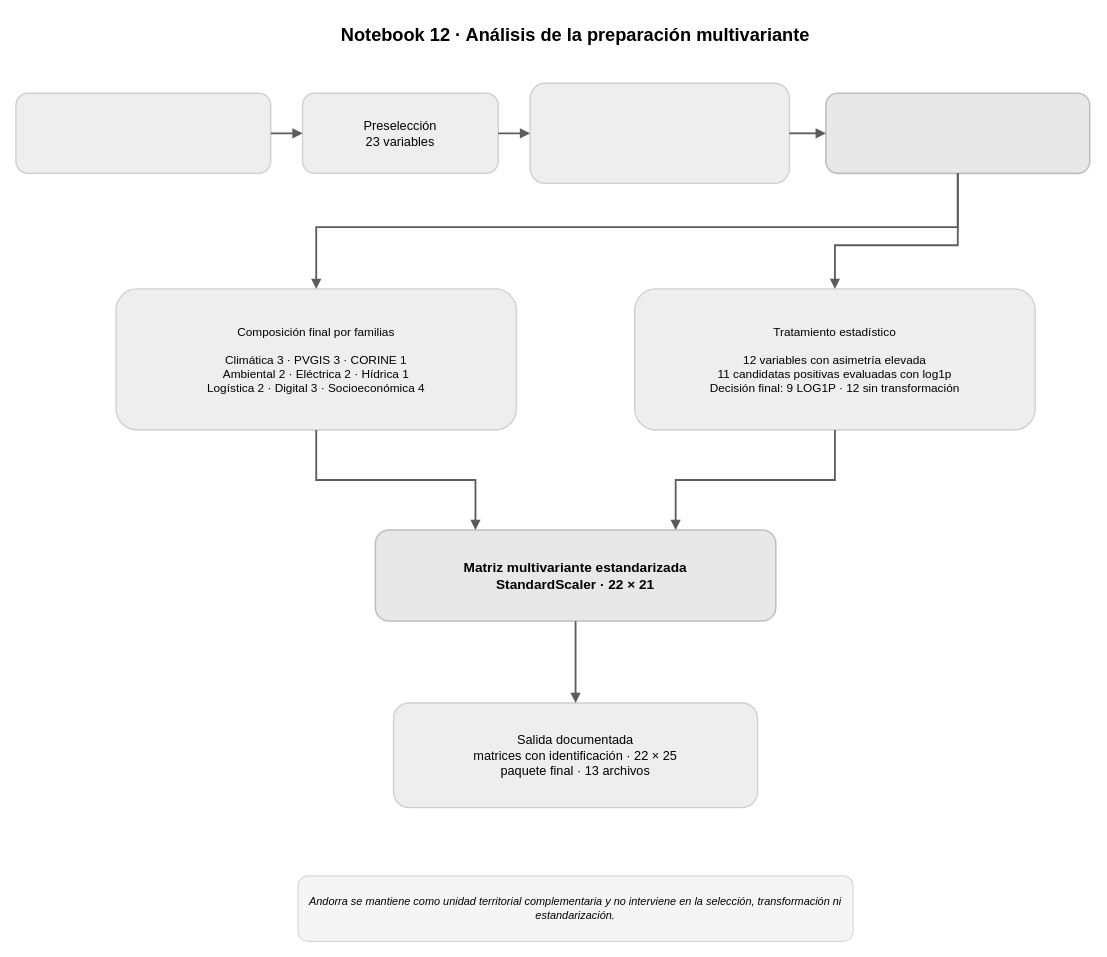
This 1107x957 diagram has some shape labels left out. The shapes that lost their labels are listed below. From the top down, each one's box as (x1, y1, x2, y2) in pixels, then its label:
(15, 92, 271, 174): Matriz revisada en el EDA 74 variables · 9 familias
(529, 82, 790, 184): Revisión global 8 pares con |ρ| ≥ 0,80 2 exclusiones por redundancia
(825, 92, 1090, 174): Selección final 21 variables · 9 familias
